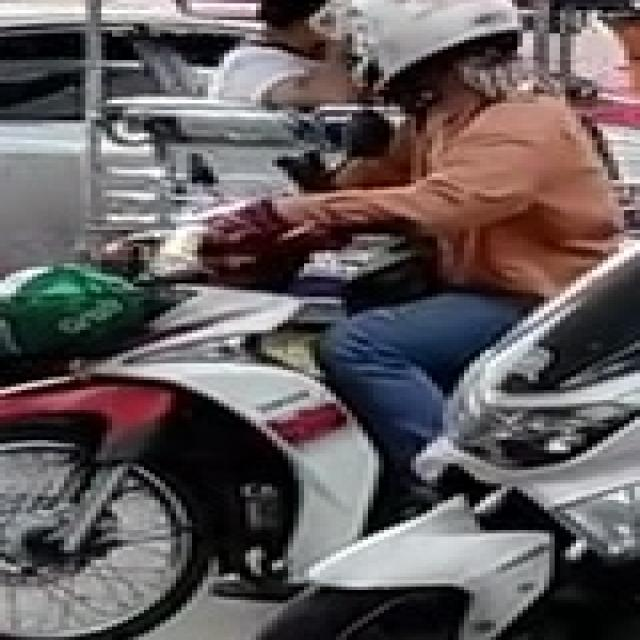door: (0, 13, 91, 284)
helmet: (405, 234, 635, 564), (341, 0, 522, 93), (0, 260, 149, 360)
tyre: (0, 423, 213, 636)
